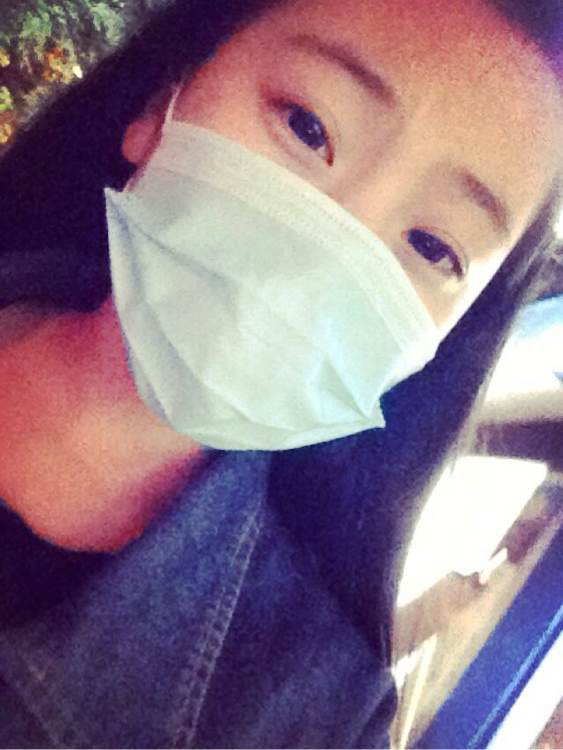face_mask: (133, 1, 540, 456)
